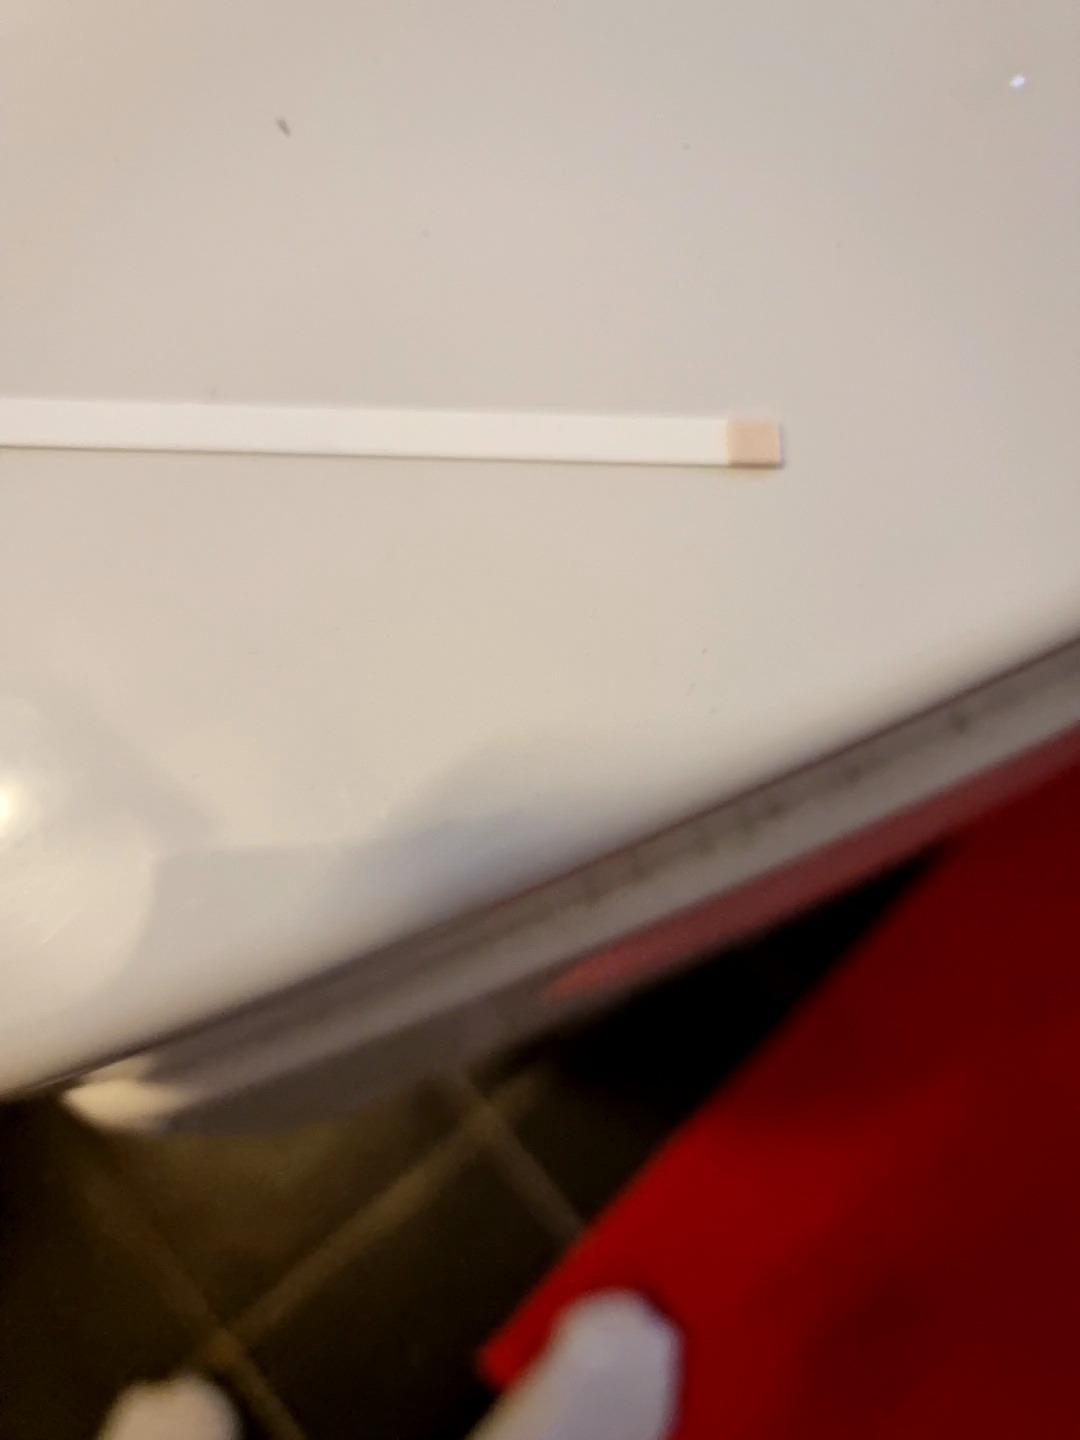keto-tip: (722, 410, 793, 473)
